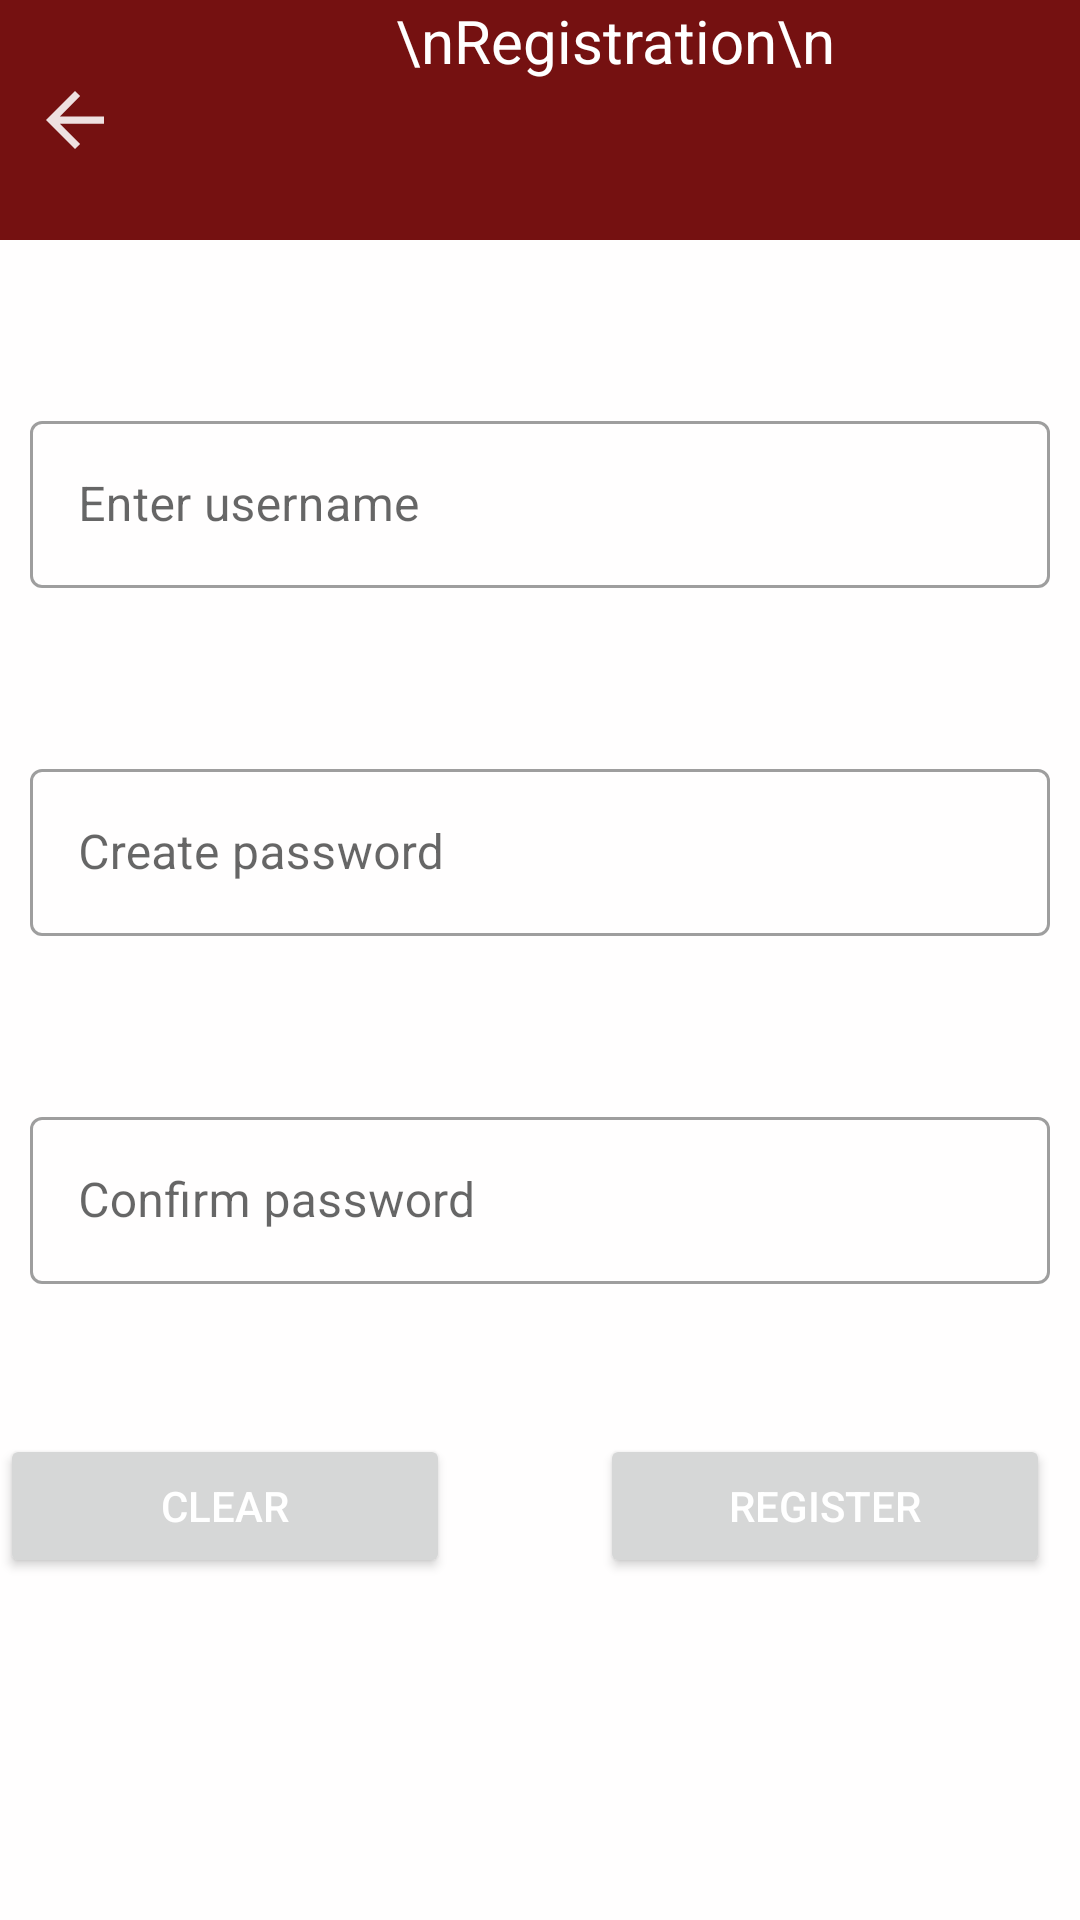

Named icons in this screenshot (1080*1920) and their centers, [x,y]:
backbutton: [75,120]
